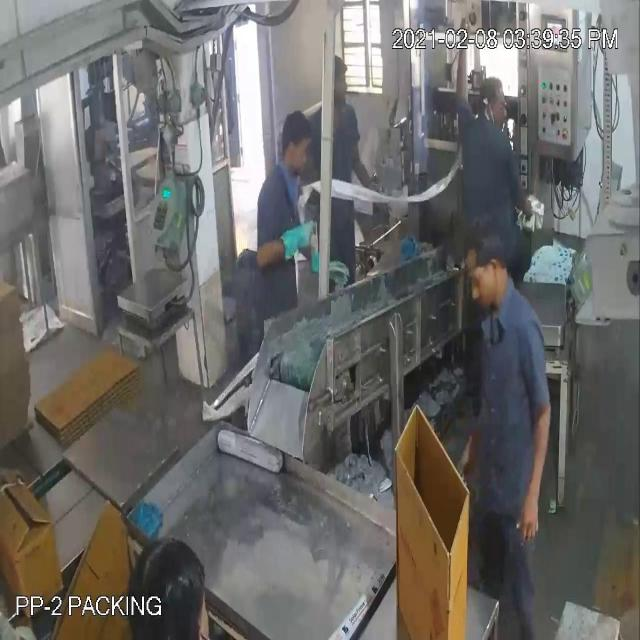Gloves: (38, 62, 540, 466)
